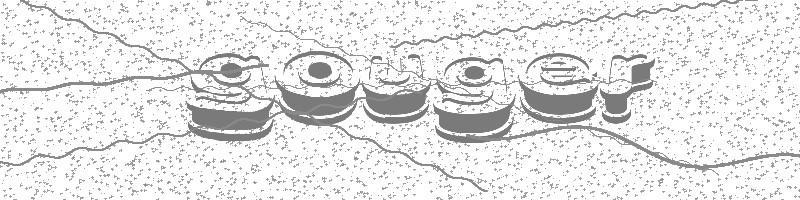e: (515, 50, 602, 123)
g: (184, 46, 277, 142), (431, 55, 520, 145)
o: (274, 46, 363, 128)
r: (599, 47, 659, 127)
u: (358, 51, 434, 128)
